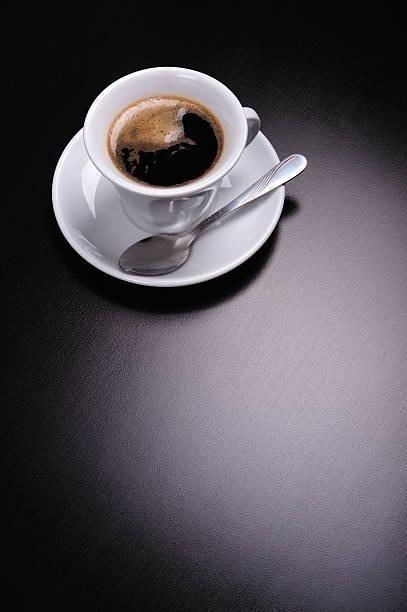cup-handle: (82, 65, 261, 236)
